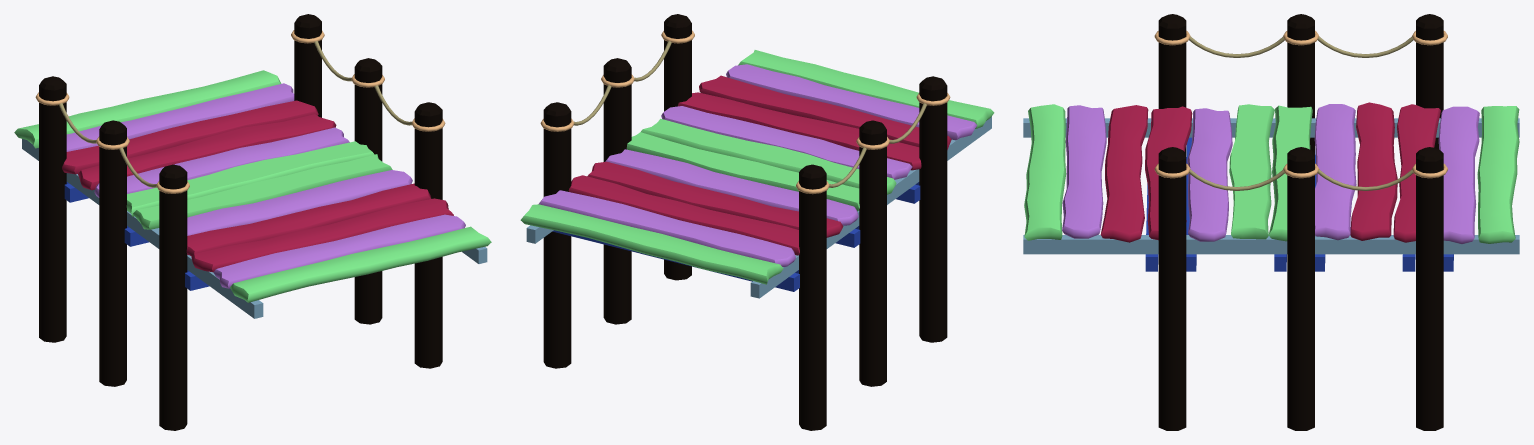
The model's file is Muelle001.fbx.
3 views of the same model, side by side, from view 1: azimuth 30°, elevation 25°; view 2: azimuth 150°, elevation 25°; view 3: azimuth 270°, elevation 25° (orthographic). The views are drawn at different scales.
Visible parts, largest first — view 1: Tabla002 (×2), Soporte006, Soporte005, Soporte004, Soporte003, Tabla010, Tabla011, Tabla009, Tabla008, Tabla007, Tabla006, Tabla003 (+6 smaller); view 2: Tabla002 (×2), Soporte006, Soporte004, Soporte005, Soporte001, Tabla001, Soporte002, Tabla005, Tabla003, Tabla004, Tabla011, Tabla007 (+7 smaller); view 3: Tabla002 (×2), Soporte003, Soporte002, Soporte001, Placa002, Tabla004, Tabla001, Tabla010, Tabla008, Tabla011, Tabla005, Tabla007 (+12 smaller).
Boxes of the visible parts, box(x1,y1,x2,y2) form: Tabla002 (×2): box(66, 83, 491, 302); Soporte006: box(159, 164, 187, 430); Soporte005: box(99, 120, 126, 386); Soporte004: box(39, 76, 66, 342); Soporte003: box(414, 102, 442, 368); Tabla010: box(191, 198, 453, 272); Tabla011: box(213, 214, 465, 288); Tabla009: box(186, 183, 431, 256); Tabla008: box(187, 170, 412, 235); Tabla007: box(133, 154, 392, 229); Tabla006: box(126, 141, 374, 216); Tabla003: box(62, 100, 318, 174); Tabla002 (×2): box(538, 50, 994, 266); Soporte006: box(919, 76, 947, 342); Soporte004: box(799, 164, 826, 430); Soporte005: box(859, 120, 886, 386); Soporte001: box(543, 102, 571, 368); Tabla001: box(520, 204, 783, 284); Soporte002: box(603, 58, 631, 324); Tabla005: box(605, 149, 858, 225); Tabla003: box(568, 175, 799, 255); Tabla004: box(587, 161, 843, 237); Tabla011: box(726, 64, 977, 140); Tabla007: box(641, 118, 896, 194); Tabla002 (×2): box(1024, 104, 1479, 243); Soporte003: box(1158, 147, 1186, 430); Soporte002: box(1287, 147, 1314, 430); Soporte001: box(1416, 147, 1443, 430); Placa002: box(1023, 235, 1519, 254); Tabla004: box(1350, 102, 1397, 240); Tabla001: box(1477, 106, 1519, 243); Tabla010: box(1100, 105, 1148, 242); Tabla008: box(1187, 108, 1232, 241); Tabla011: box(1062, 105, 1106, 238); Tabla005: box(1314, 104, 1356, 240); Tabla007: box(1229, 104, 1274, 239).
Size of the model in its own units: 187 by 164 by 264.
